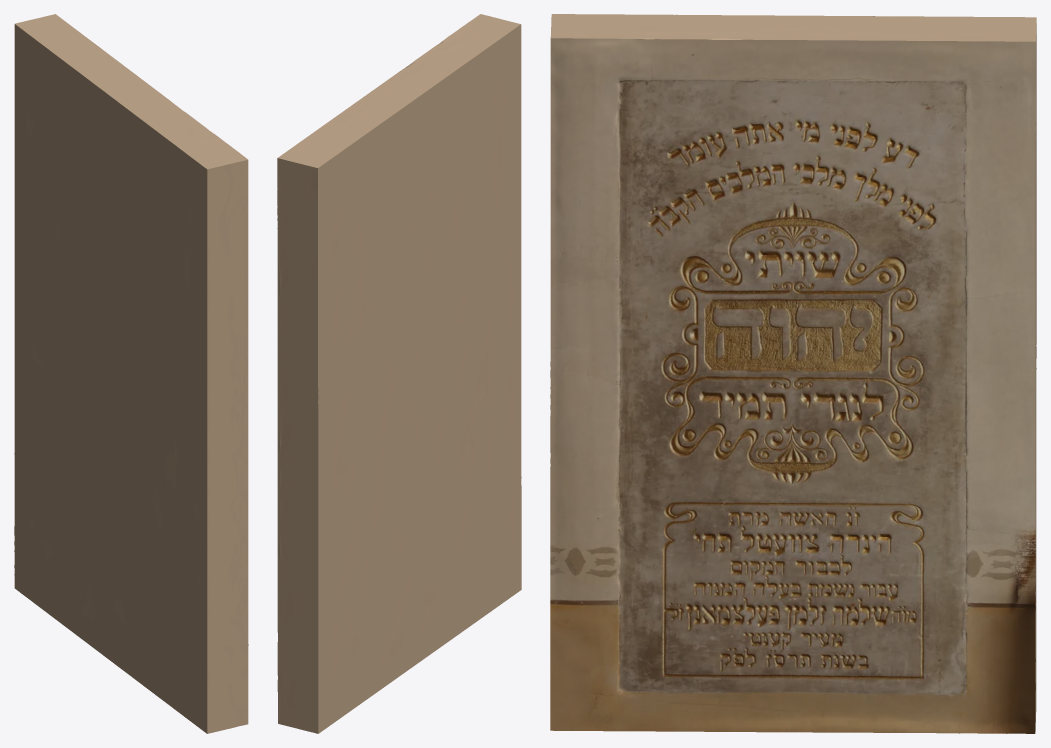
The model's file is preview.glb.
The picture shows the model from 3 angles, left to right: view 1: azimuth 30°, elevation 25°; view 2: azimuth 150°, elevation 25°; view 3: azimuth 270°, elevation 25°; orthographic projection. The views are drawn at different scales.
Visible parts, largest first — view 1: Object_2; view 2: Object_2; view 3: Object_2.
Part boxes in pixels (<box>): Object_2: <box>14,14,248,733</box>; Object_2: <box>277,14,521,733</box>; Object_2: <box>550,14,1036,733</box>.
Bounding box in the file's own units: 3.94 × 45.58 × 29.
1 material, 1 textured.
